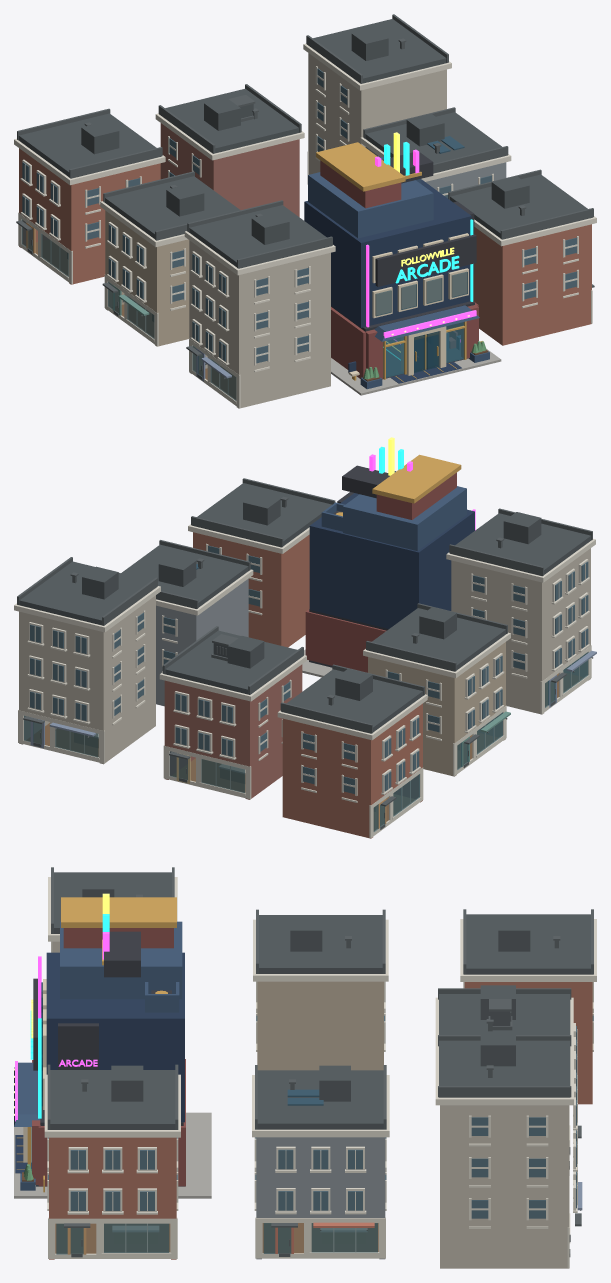
Rendered from downtown-block-p1-m1.glb.
3 renders of one model, top to bottom at view 1: azimuth 30°, elevation 25°; view 2: azimuth 150°, elevation 25°; view 3: azimuth 270°, elevation 25°, orthographic. The views are drawn at different scales.
Parts seen in each view (by area): view 1: followville_arcade_batched.001, urban_townhouse_14.001, urban_townhouse_10.006, urban_townhouse_10.001, urban_townhouse_14.007, urban_townhouse_11.006, urban_townhouse_13.007, urban_townhouse_12.004, arcade_arcade_text.001; view 2: followville_arcade_batched.001, urban_townhouse_14.007, urban_townhouse_10.001, urban_townhouse_14.001, urban_townhouse_13.007, urban_townhouse_11.006, urban_townhouse_10.006, urban_townhouse_12.004; view 3: urban_townhouse_14.007, followville_arcade_batched.001, urban_townhouse_12.004, urban_townhouse_10.006, urban_townhouse_11.006, urban_townhouse_10.001, urban_townhouse_13.007, urban_townhouse_14.001.
Part boxes in pixels (bbox=[...]): followville_arcade_batched.001: bbox=[304, 132, 501, 395]; urban_townhouse_14.001: bbox=[184, 200, 335, 408]; urban_townhouse_10.006: bbox=[448, 169, 596, 345]; urban_townhouse_10.001: bbox=[14, 108, 165, 284]; urban_townhouse_14.007: bbox=[303, 14, 451, 184]; urban_townhouse_11.006: bbox=[100, 171, 240, 346]; urban_townhouse_13.007: bbox=[155, 84, 304, 216]; urban_townhouse_12.004: bbox=[360, 107, 511, 198]; arcade_arcade_text.001: bbox=[395, 255, 459, 283]; followville_arcade_batched.001: bbox=[302, 437, 475, 677]; urban_townhouse_14.007: bbox=[14, 557, 160, 764]; urban_townhouse_10.001: bbox=[277, 664, 427, 838]; urban_townhouse_14.001: bbox=[446, 508, 596, 714]; urban_townhouse_13.007: bbox=[159, 626, 306, 799]; urban_townhouse_11.006: bbox=[363, 603, 510, 776]; urban_townhouse_10.006: bbox=[188, 478, 335, 647]; urban_townhouse_12.004: bbox=[121, 540, 253, 706]; urban_townhouse_14.007: bbox=[435, 1032, 582, 1268]; followville_arcade_batched.001: bbox=[14, 893, 211, 1198]; urban_townhouse_12.004: bbox=[252, 1065, 389, 1259]; urban_townhouse_10.006: bbox=[44, 1064, 180, 1259]; urban_townhouse_11.006: bbox=[253, 909, 388, 1070]; urban_townhouse_10.001: bbox=[460, 909, 596, 1104]; urban_townhouse_13.007: bbox=[435, 985, 581, 1175]; urban_townhouse_14.001: bbox=[48, 867, 177, 952].
Bounding box in the file's own units: 33.41 × 18.23 × 36.45.
